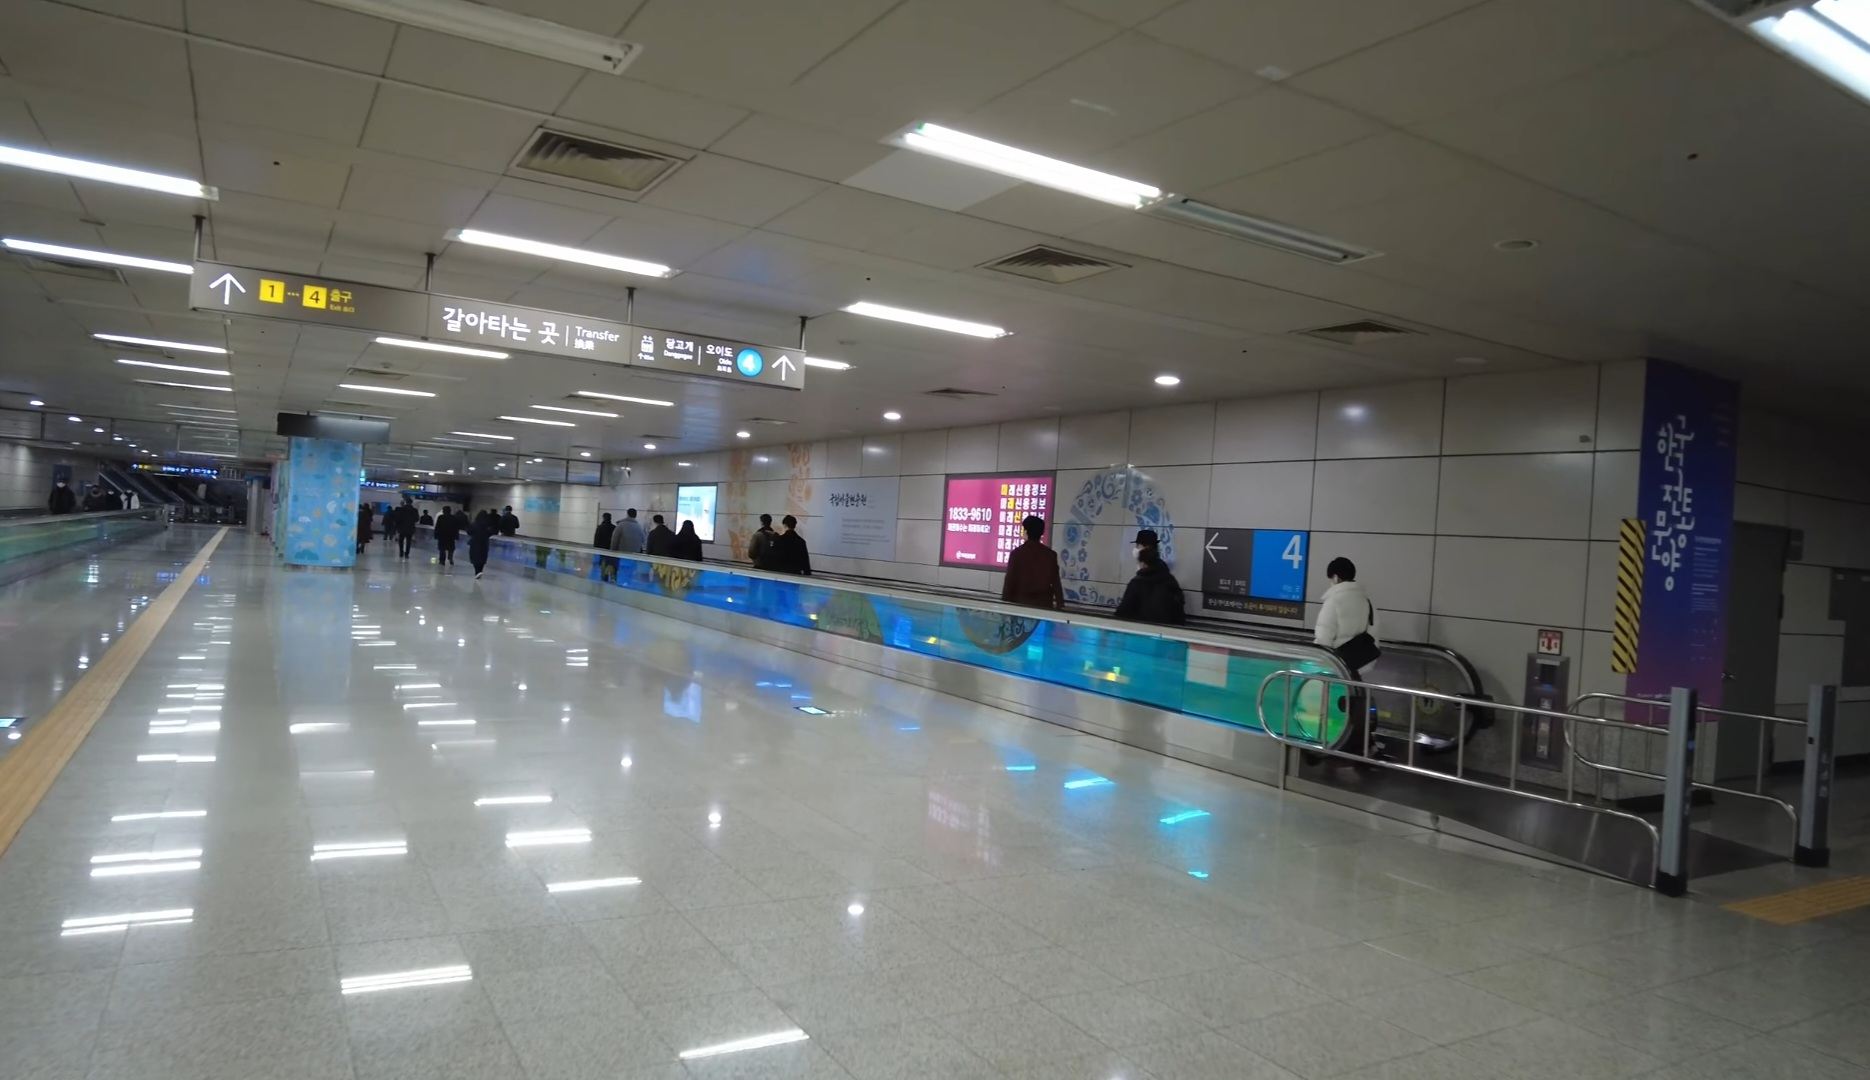signBoard: (176, 247, 810, 402)
